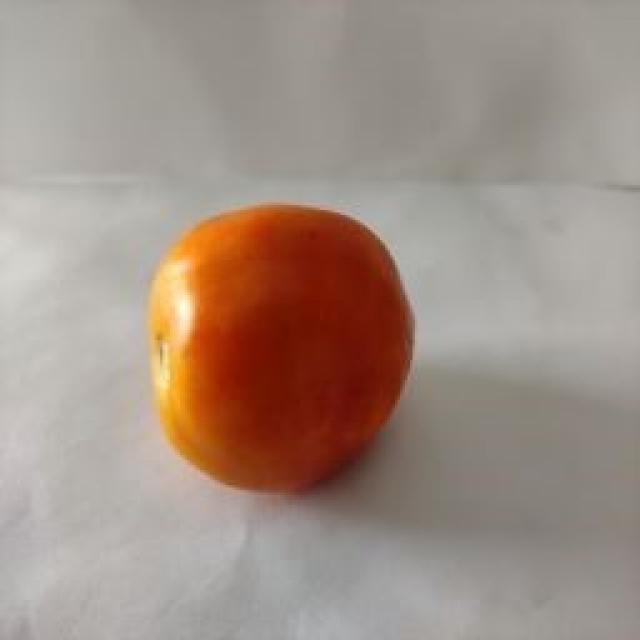Ripe: (146, 198, 420, 495)
